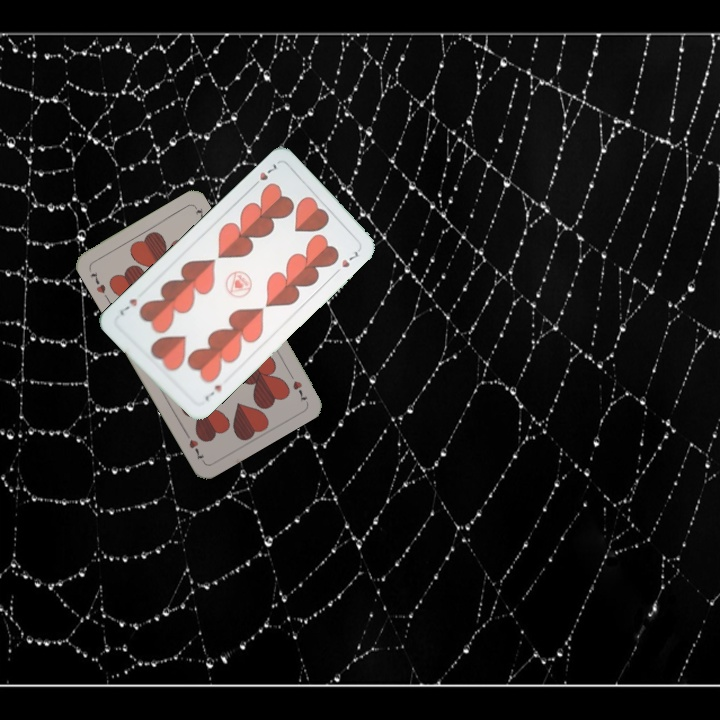H7: (284, 367, 310, 405), (248, 159, 279, 190), (86, 268, 111, 302), (201, 381, 225, 403)
